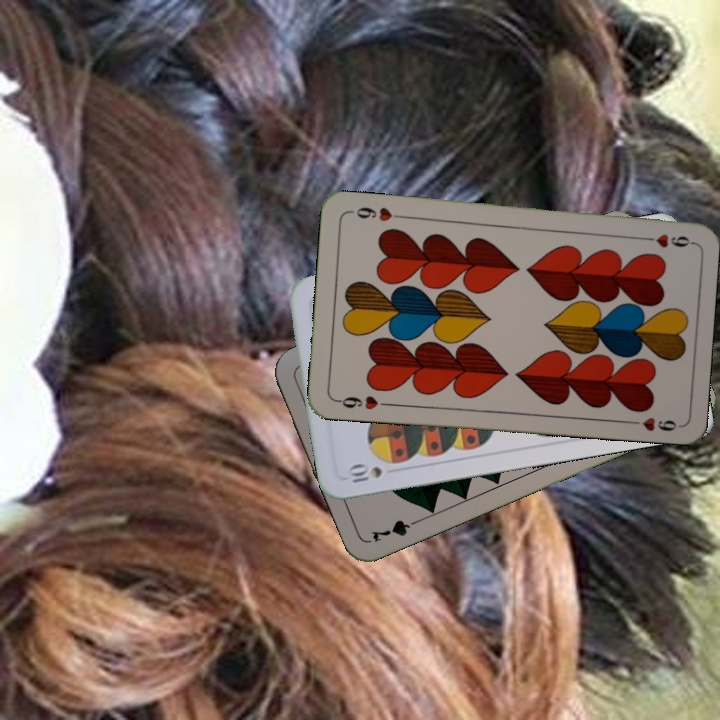G7: (367, 514, 425, 545)
H9: (332, 391, 391, 412), (634, 230, 693, 250)
S10: (343, 460, 385, 486)
